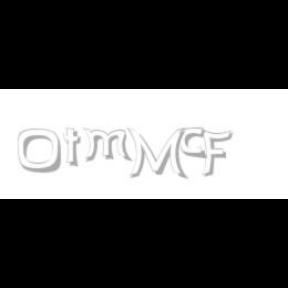F: (200, 128, 232, 178)
M: (126, 128, 186, 180)
O: (18, 128, 62, 174)
c: (180, 128, 208, 160)
m: (81, 128, 133, 162)
t: (63, 128, 85, 168)
